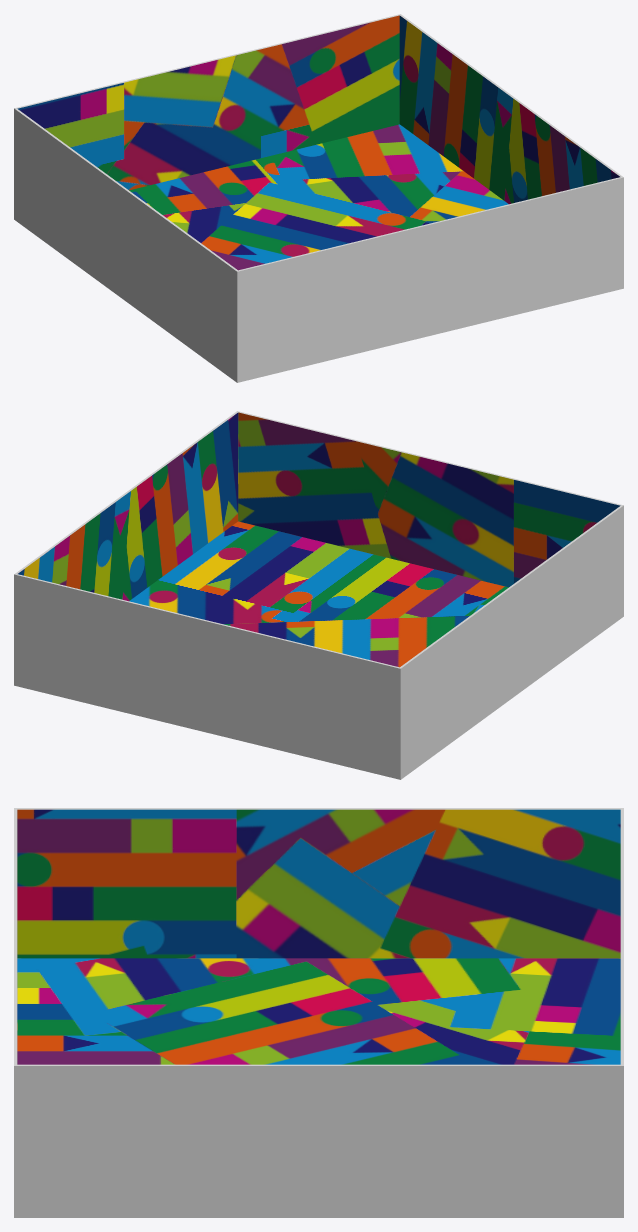
Rendered from rtab_map_state.dae.
3 renders of one model, top to bottom at view 1: azimuth 30°, elevation 25°; view 2: azimuth 150°, elevation 25°; view 3: azimuth 270°, elevation 25°, orthographic. The views are drawn at different scales.
Visible parts, largest first — view 1: Rtab Map State; view 2: Rtab Map State; view 3: Rtab Map State.
Part boxes in pixels (left/top/right/bottom): Rtab Map State: left=14, top=14, right=623, bottom=382; Rtab Map State: left=14, top=411, right=623, bottom=779; Rtab Map State: left=14, top=808, right=623, bottom=1217.
Size of the model in its own units: 18.2 by 18.2 by 5.
Materials: 2 (1 with a texture image).
